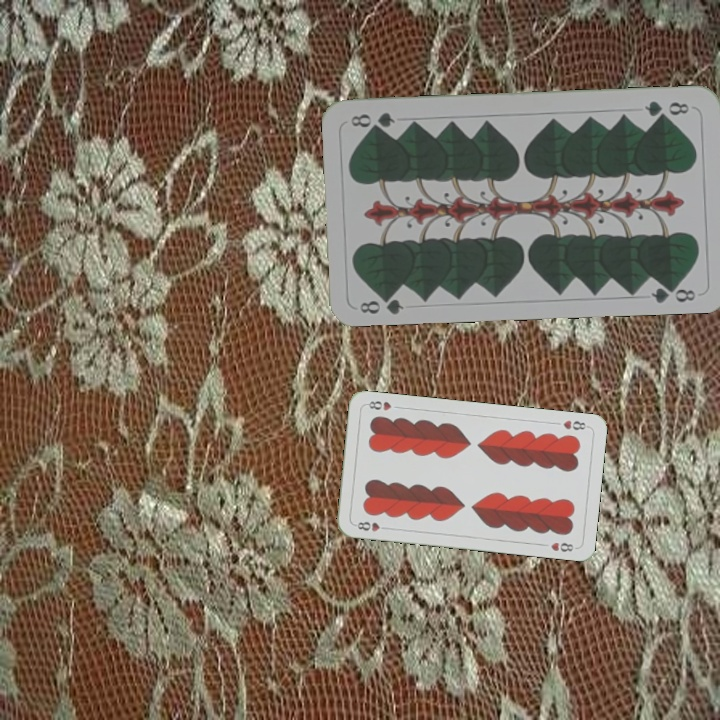G8: (355, 290, 406, 317), (641, 96, 692, 120)
H8: (351, 517, 391, 534), (559, 416, 591, 432)
